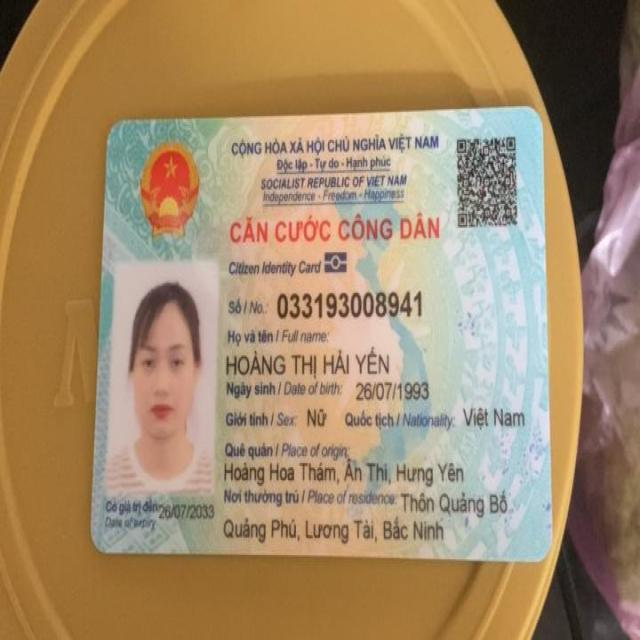bottom_left: (74, 522, 120, 566)
bottom_right: (514, 530, 560, 571)
image_person: (104, 262, 221, 500)
top_left: (94, 109, 137, 156)
top_right: (512, 91, 546, 131)
